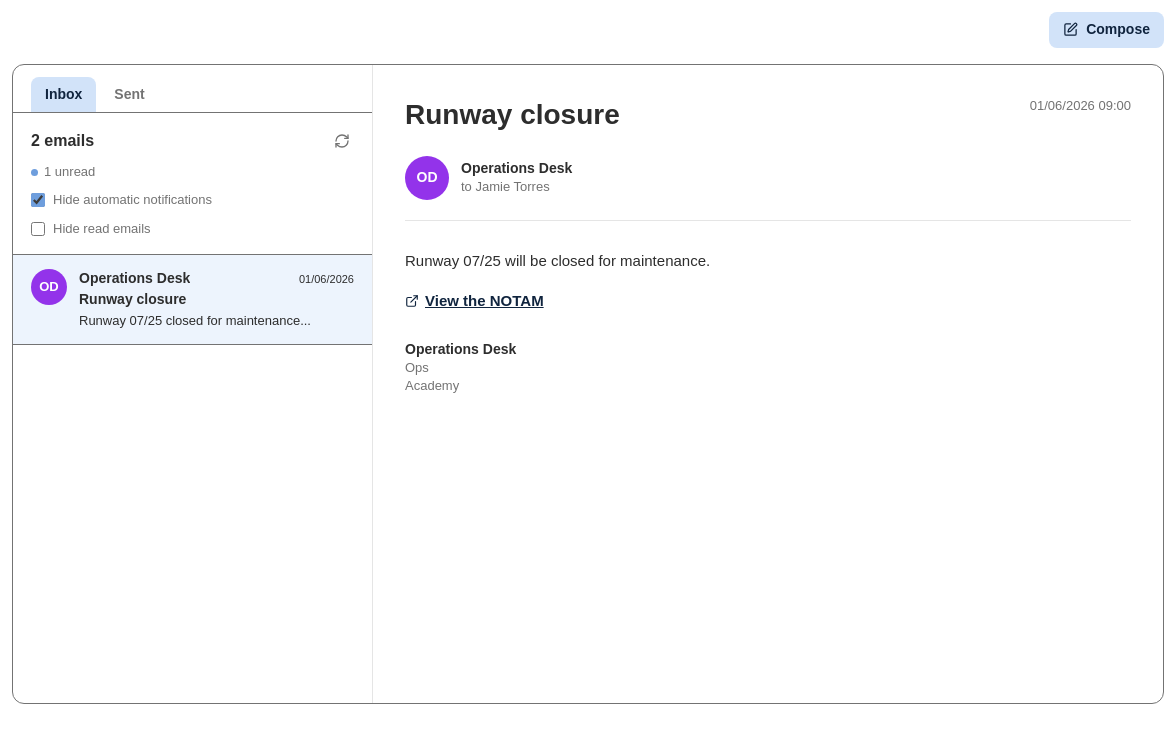
Test: Mailbox › marks an email read on open, drops the unread count, and notifies the backend
The width and height of the screenshot is (1176, 732).
Click the button "Operations Desk": [58, 279] box top-left (13, 255), bottom-right (372, 345)
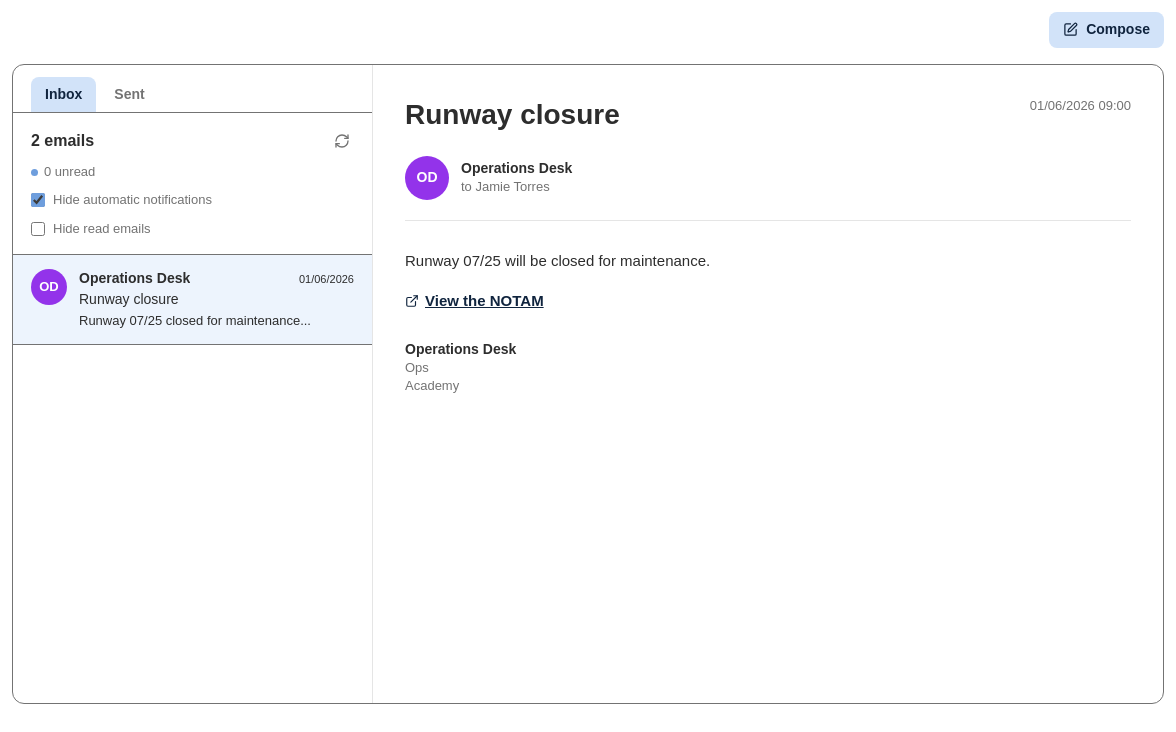
Result: the text "0 unread" is shown at top-left (31, 163), bottom-right (95, 181)
